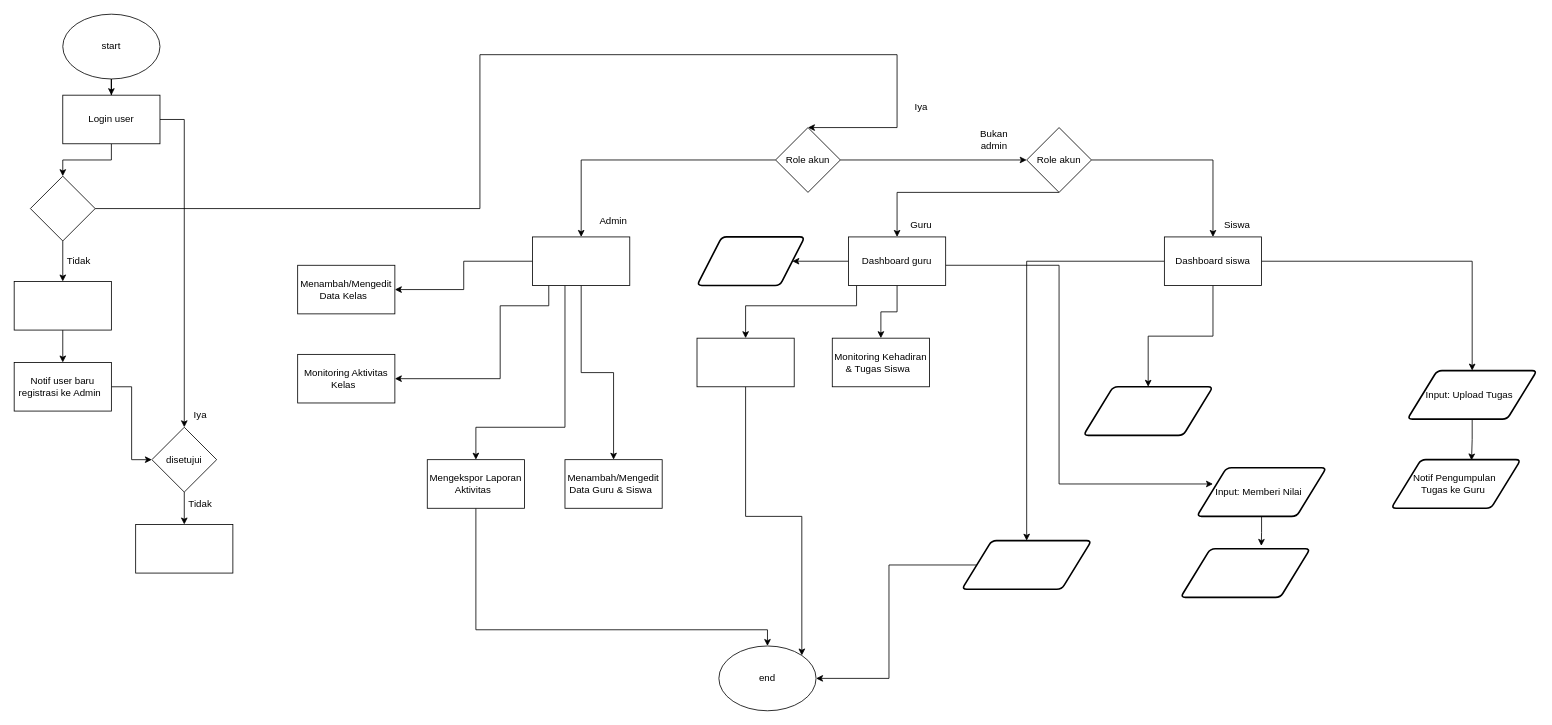
Some shapes in this 1552 by 725 pixel diagram are drawn without their labels. Each missing label, with the box of its shape:
Dashboard admin: (532, 236, 630, 286)
Input: Membuat Materi/Tugas: (696, 236, 805, 286)
memberi feedback: (696, 337, 794, 387)
Notif Nilai ke Siswa: (1179, 548, 1311, 598)
Output: Akses Materi: (1082, 386, 1213, 436)
Output: Lihat Nilai & Feedback: (961, 539, 1092, 590)
register akun: (13, 281, 111, 330)
sudah register?: (30, 175, 95, 241)
user tidak bisa login: (135, 524, 233, 573)
